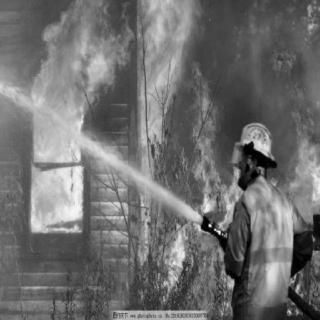other: (252, 210, 286, 316)
